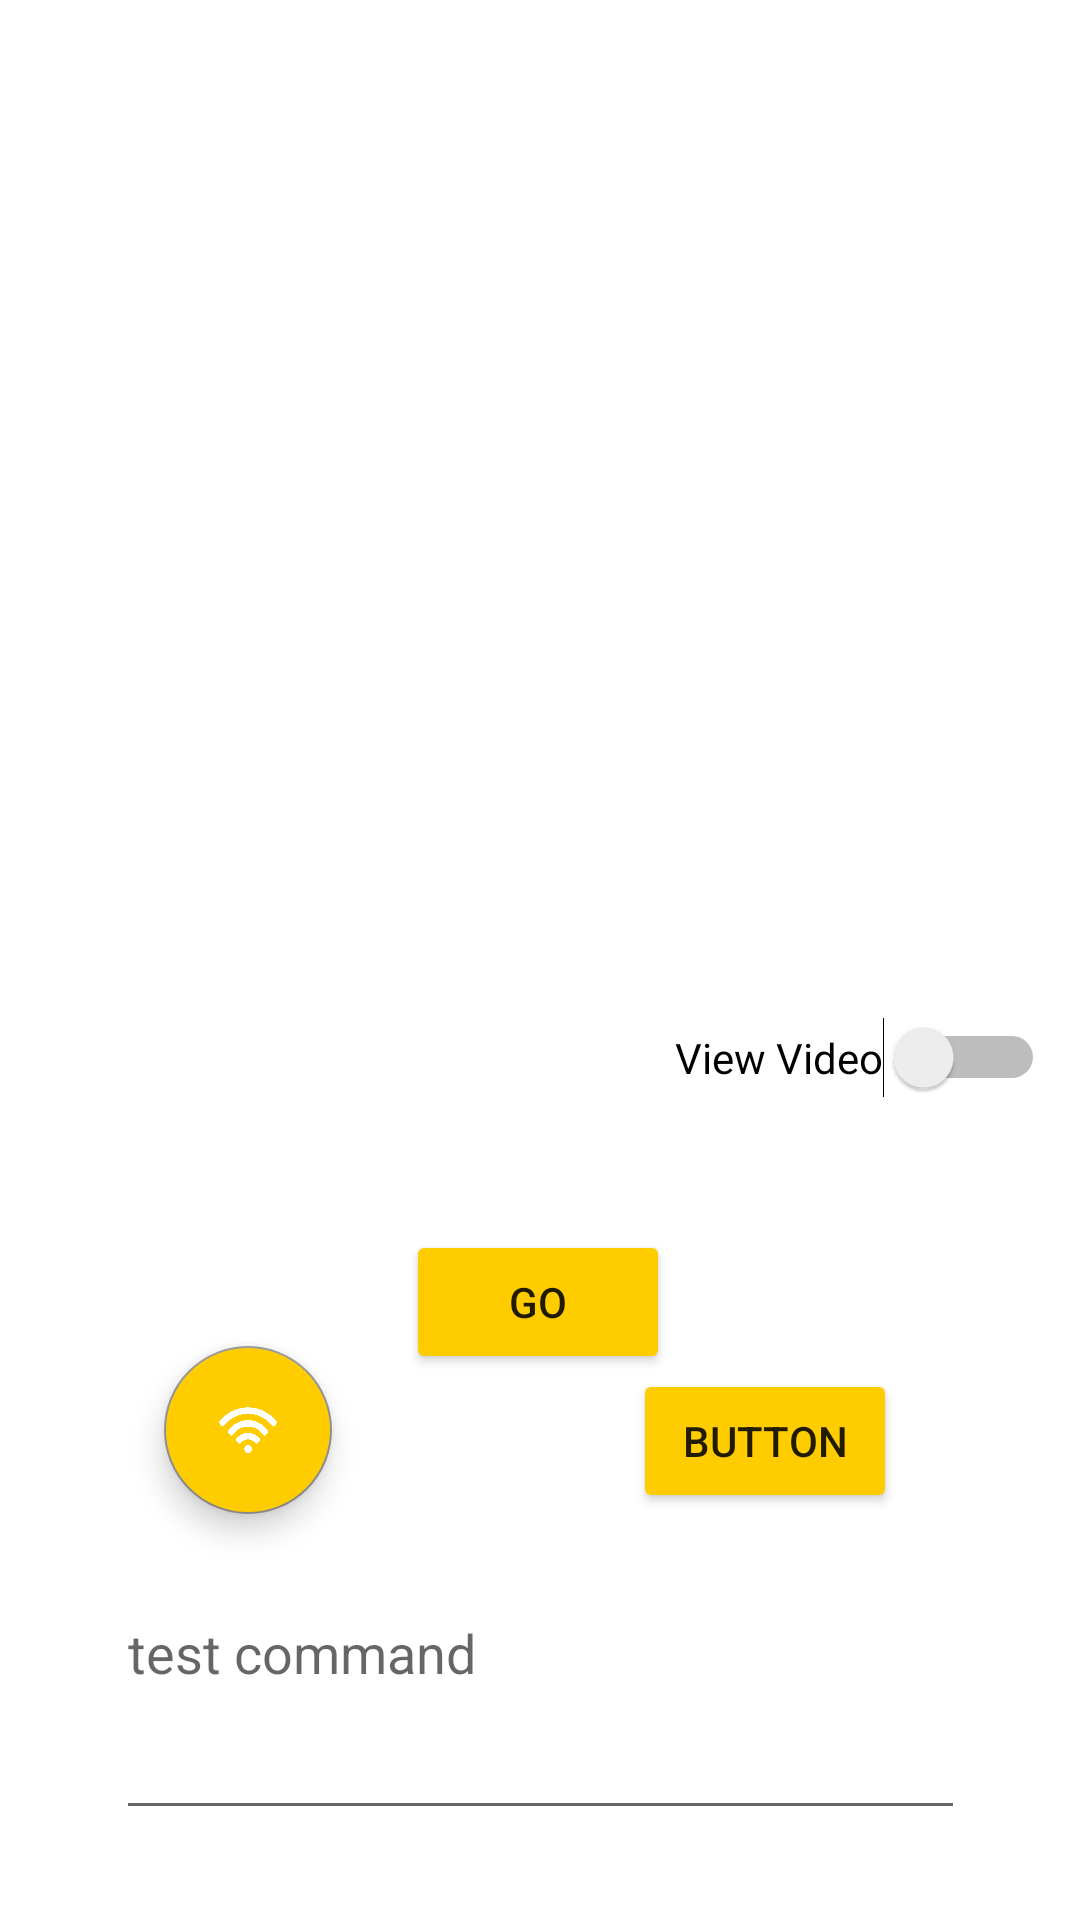

Icon click points for this 1080w x 1920h phone screenshot, format point (x, y):
connect drone: point (248, 1430)
